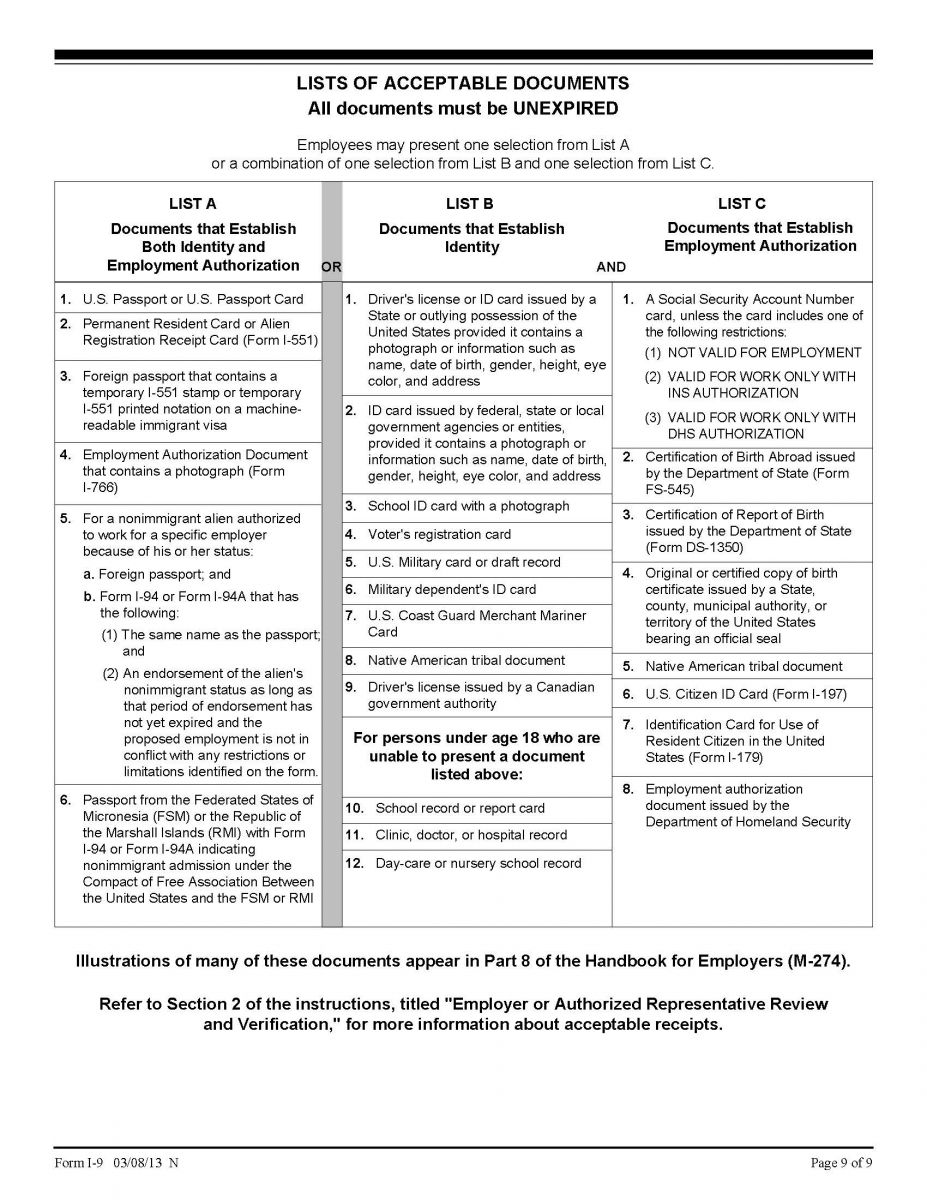table: (344, 180, 874, 927), (55, 184, 323, 928)
